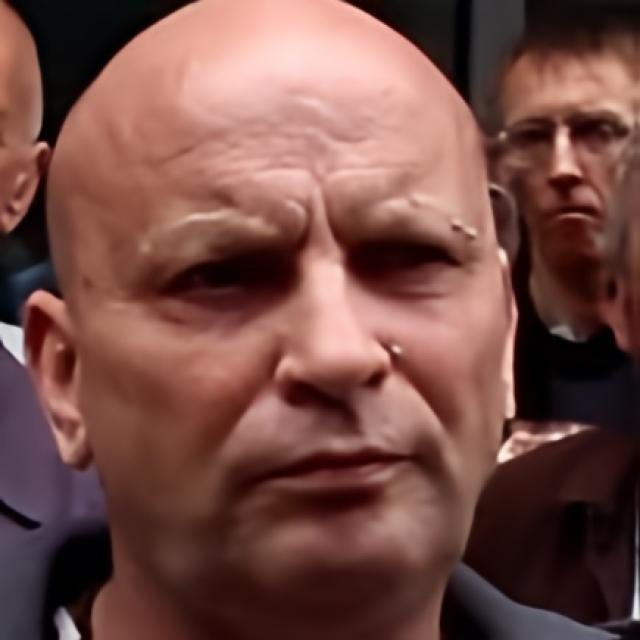anger: (81, 120, 507, 611), (507, 56, 638, 270)
